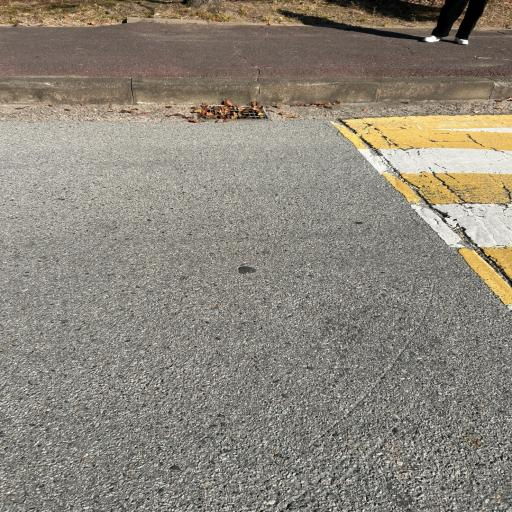debris: (197, 100, 264, 119), (231, 112, 236, 119)
drain: (195, 98, 269, 119)
